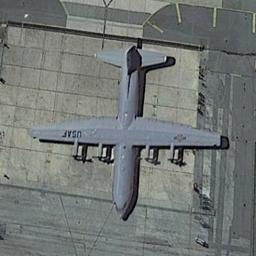Airplane: (30, 44, 230, 221)
